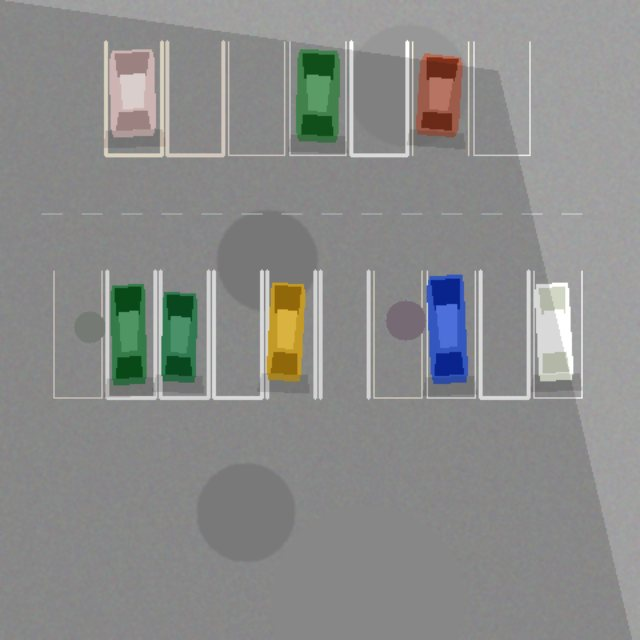space-empty: (167, 41, 223, 155), (228, 41, 284, 155), (351, 41, 407, 155), (473, 41, 529, 155), (53, 271, 101, 397), (213, 271, 261, 397), (320, 271, 368, 397), (373, 271, 421, 397), (480, 271, 528, 397)
space-occupied: (105, 41, 161, 155), (289, 41, 345, 155), (412, 41, 468, 155), (107, 271, 155, 397), (160, 271, 208, 397), (267, 271, 315, 397), (427, 271, 475, 397), (533, 271, 581, 397)
